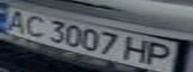0: (78, 26, 103, 53), (63, 21, 84, 48)
3: (42, 17, 69, 44)
7: (100, 29, 124, 57)
A: (0, 7, 33, 34)
C: (18, 11, 51, 38)
H: (121, 35, 154, 64)
P: (142, 40, 178, 69)
